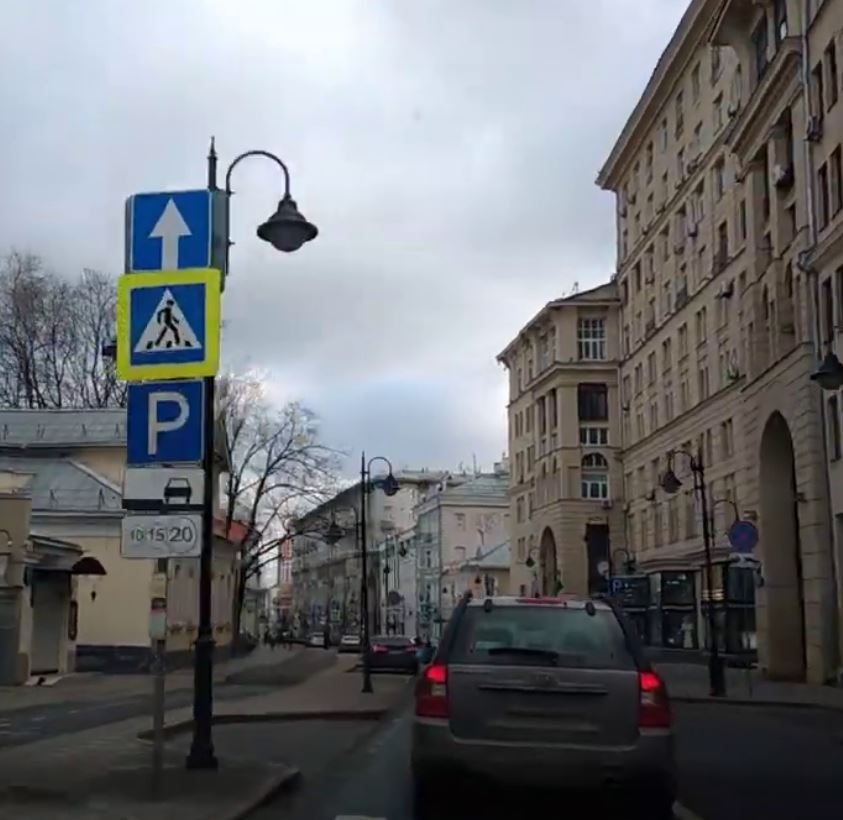Yaya Gecidi: (129, 284, 206, 364)
